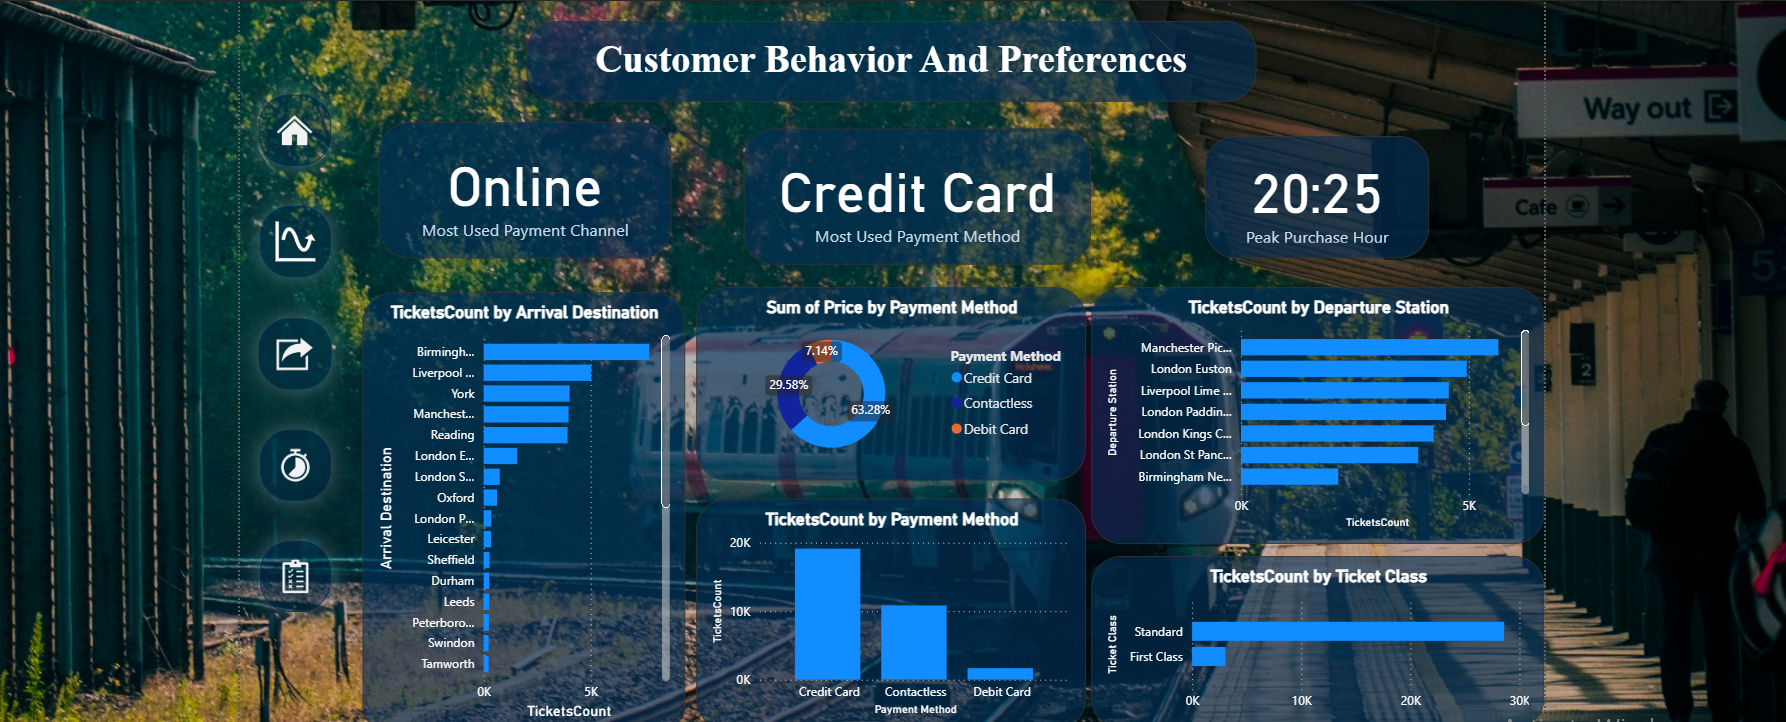

Layout of this report page (visuals, bound fields, positions):
{"tool":"powerbi","page":{"name":"Customer Behavior & Preferences ","canvas":[1280,720],"ordinal":2},"visuals":[{"type":"card","fields":{"Values":["_measure.Most Used Payment Method"]},"box":[135.7,118.6,287.4,133.3],"z":0},{"type":"card","fields":{"Values":["_measure.Peak Purchase Hour"]},"box":[947.7,132.1,220.1,119.8],"z":1000},{"type":"clusteredColumnChart","fields":{"Category":["Ticket Table.Payment Method"],"Y":["_measure.TicketsCount"]},"box":[447.6,487.9,382.7,227.4],"z":2000},{"type":"donutChart","fields":{"Category":["Passenger Table.Payment Method"],"Y":["Sum(Ticket Table.Price)"]},"box":[447.6,281.3,382.7,189.5],"z":3000},{"type":"clusteredBarChart","fields":{"Category":["Journey Table.Departure Station"],"Y":["_measure.TicketsCount"]},"box":[835.2,281.3,445.1,251.9],"z":4000},{"type":"clusteredBarChart","fields":{"Category":["Journey Table.Arrival Destination"],"Y":["_measure.TicketsCount"]},"box":[119.8,286.1,316.7,434.1],"z":5000},{"type":"clusteredBarChart","fields":{"Category":["Ticket Table.Ticket Class"],"Y":["_measure.TicketsCount"]},"box":[835.2,545.4,445.1,170],"z":6000},{"type":"card","fields":{"Values":["_measure.Most Used Payment Method"]},"box":[494,125.3,341.2,133.3],"z":7000},{"type":"textbox","title":" Customer Impact on delay and refund","box":[281.3,19.6,716.6,79.5],"z":8000},{"type":"image","box":[19.4,201.6,69.7,69.7],"z":9000},{"type":"image","box":[18.8,311.1,70.9,69.7],"z":10000},{"type":"image","box":[19.4,420.5,69.7,69.7],"z":11000},{"type":"image","box":[19.4,530,69.7,69.7],"z":12000},{"type":"image","box":[18.8,92.2,70.9,69.7],"z":13000}]}

Visuals, with their boxes on the page's 1280x720 design canvas (x1, y1, x2, y2). These are canvas units, not pixel positions in the 1786x722 screenshot, which may show the page scaled, cropped or inside an application window:
card - _measure.Most Used Payment Method: rect(136, 119, 423, 252)
card - _measure.Peak Purchase Hour: rect(948, 132, 1168, 252)
clusteredColumnChart - Ticket Table.Payment Method x _measure.TicketsCount: rect(448, 488, 830, 715)
donutChart - Passenger Table.Payment Method x Sum(Ticket Table.Price): rect(448, 281, 830, 471)
clusteredBarChart - Journey Table.Departure Station x _measure.TicketsCount: rect(835, 281, 1280, 533)
clusteredBarChart - Journey Table.Arrival Destination x _measure.TicketsCount: rect(120, 286, 436, 720)
clusteredBarChart - Ticket Table.Ticket Class x _measure.TicketsCount: rect(835, 545, 1280, 715)
card - _measure.Most Used Payment Method: rect(494, 125, 835, 259)
" Customer Impact on delay and refund" textbox: rect(281, 20, 998, 99)
image: rect(19, 202, 89, 271)
image: rect(19, 311, 90, 381)
image: rect(19, 420, 89, 490)
image: rect(19, 530, 89, 600)
image: rect(19, 92, 90, 162)
